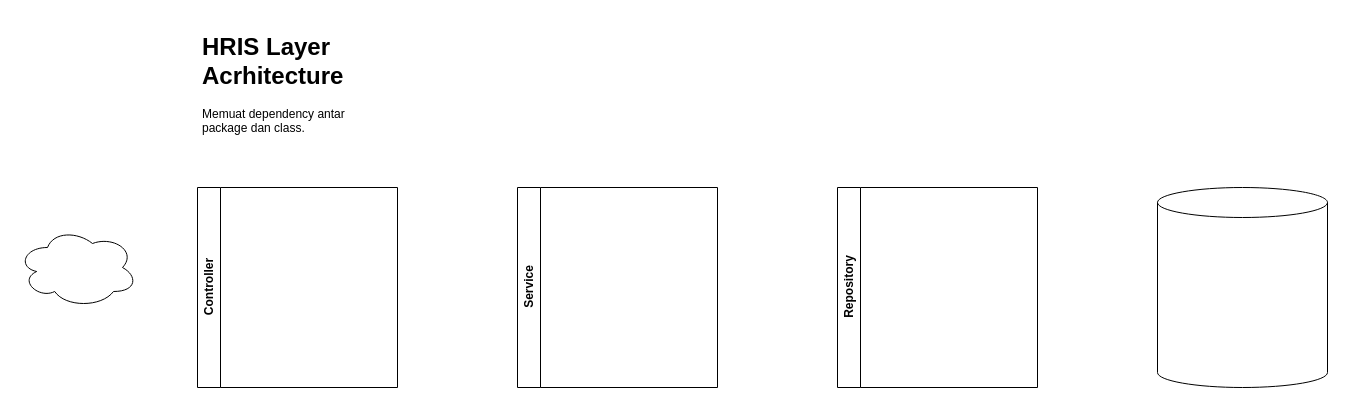
The diagram is 1345 pixels wide and 405 high, and some of its shapes have lost their labels. Here are the shapes that lost their labels. From the top down, the centre of each, then its label:
pixel 77 267: Frontend
pixel 1242 287: MySql
